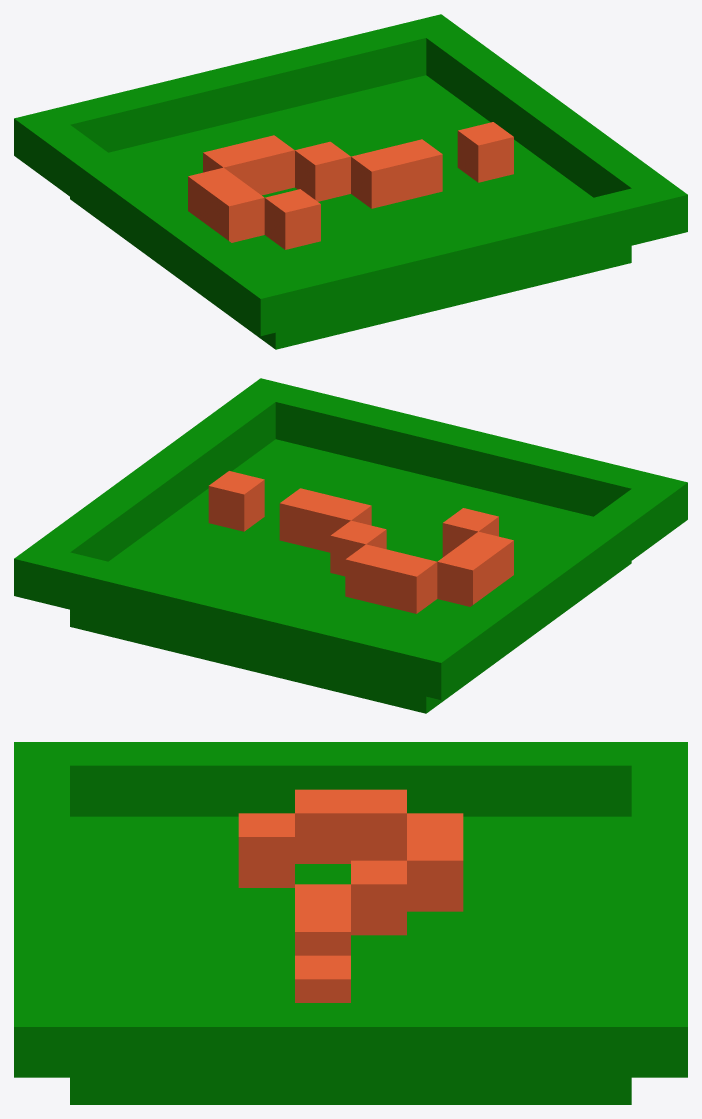
Rendered from SpinBoxCover.dae.
3 renders of one model, top to bottom at view 1: azimuth 30°, elevation 25°; view 2: azimuth 150°, elevation 25°; view 3: azimuth 270°, elevation 25°, orthographic. The views are drawn at different scales.
Visible parts, largest first — view 1: SpinBoxCover; view 2: SpinBoxCover; view 3: SpinBoxCover.
Part boxes in pixels (x1=…): SpinBoxCover: x1=14, y1=14, x2=687, y2=349; SpinBoxCover: x1=14, y1=378, x2=687, y2=713; SpinBoxCover: x1=14, y1=742, x2=687, y2=1104.
Size of the model in its own units: 1.2 by 1.2 by 0.2.
1 material, 1 textured.
